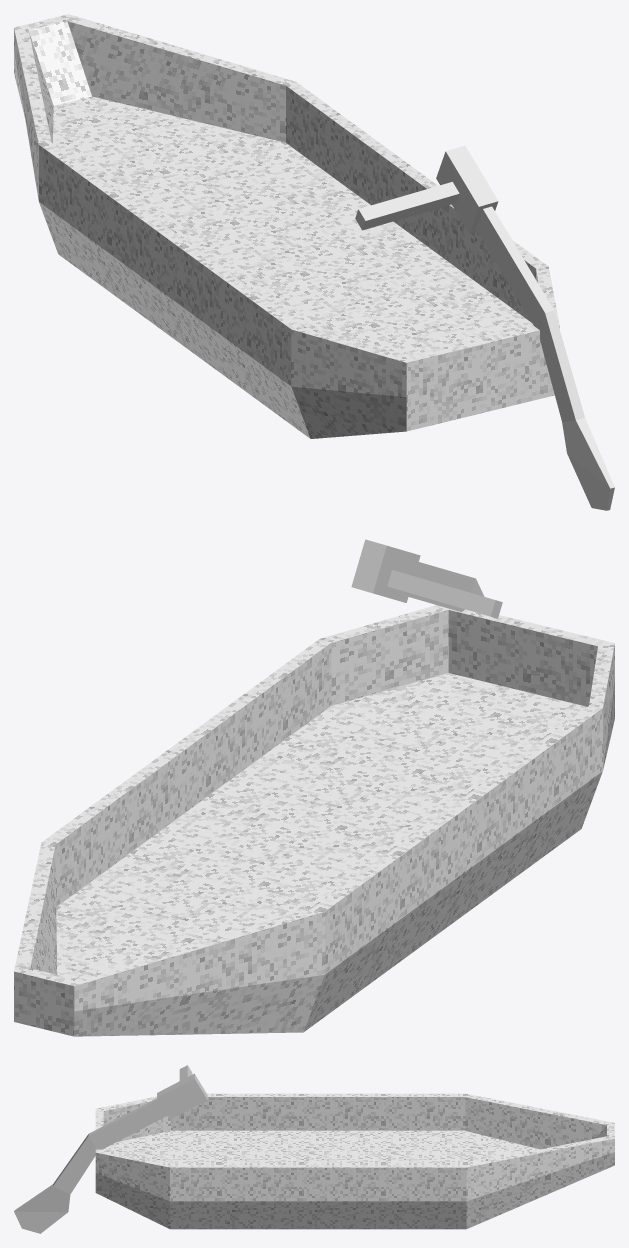
File: mod_boat.fbx
The picture shows the model from 3 angles, top to bottom: view 1: azimuth 30°, elevation 25°; view 2: azimuth 150°, elevation 25°; view 3: azimuth 270°, elevation 25°; orthographic projection. The views are drawn at different scales.
Visible parts, largest first — view 1: pre_boat; view 2: pre_boat; view 3: pre_boat.
Boxes of the visible parts, bbox=[...] form: pre_boat: bbox=[14, 14, 614, 510]; pre_boat: bbox=[14, 539, 614, 1036]; pre_boat: bbox=[14, 1065, 614, 1233].
Bounding box in the file's own units: 2.35 × 2.32 × 8.1.
